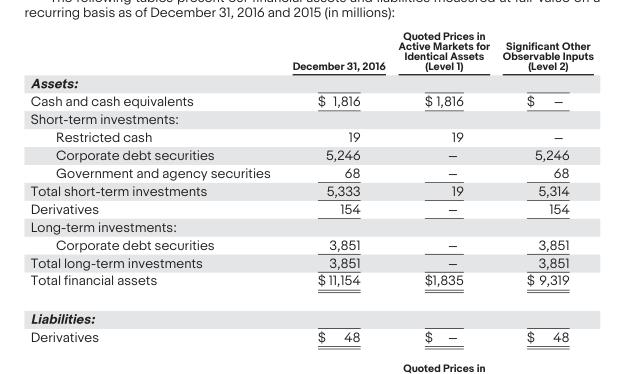table: (29, 29, 592, 343)
table column: (29, 29, 280, 343), (280, 29, 391, 343), (391, 29, 495, 343), (495, 29, 592, 343)
table column header: (29, 29, 592, 73)
table projected row header: (29, 298, 592, 327), (29, 73, 592, 91), (29, 109, 592, 127), (29, 216, 592, 234)
table row: (29, 29, 592, 73), (29, 298, 592, 327), (29, 270, 592, 298), (29, 73, 592, 91), (29, 91, 592, 109), (29, 109, 592, 127), (29, 127, 592, 145), (29, 145, 592, 163), (29, 163, 592, 181), (29, 198, 592, 216), (29, 216, 592, 234), (29, 234, 592, 252), (29, 252, 592, 270), (29, 181, 592, 198), (29, 327, 592, 343)
